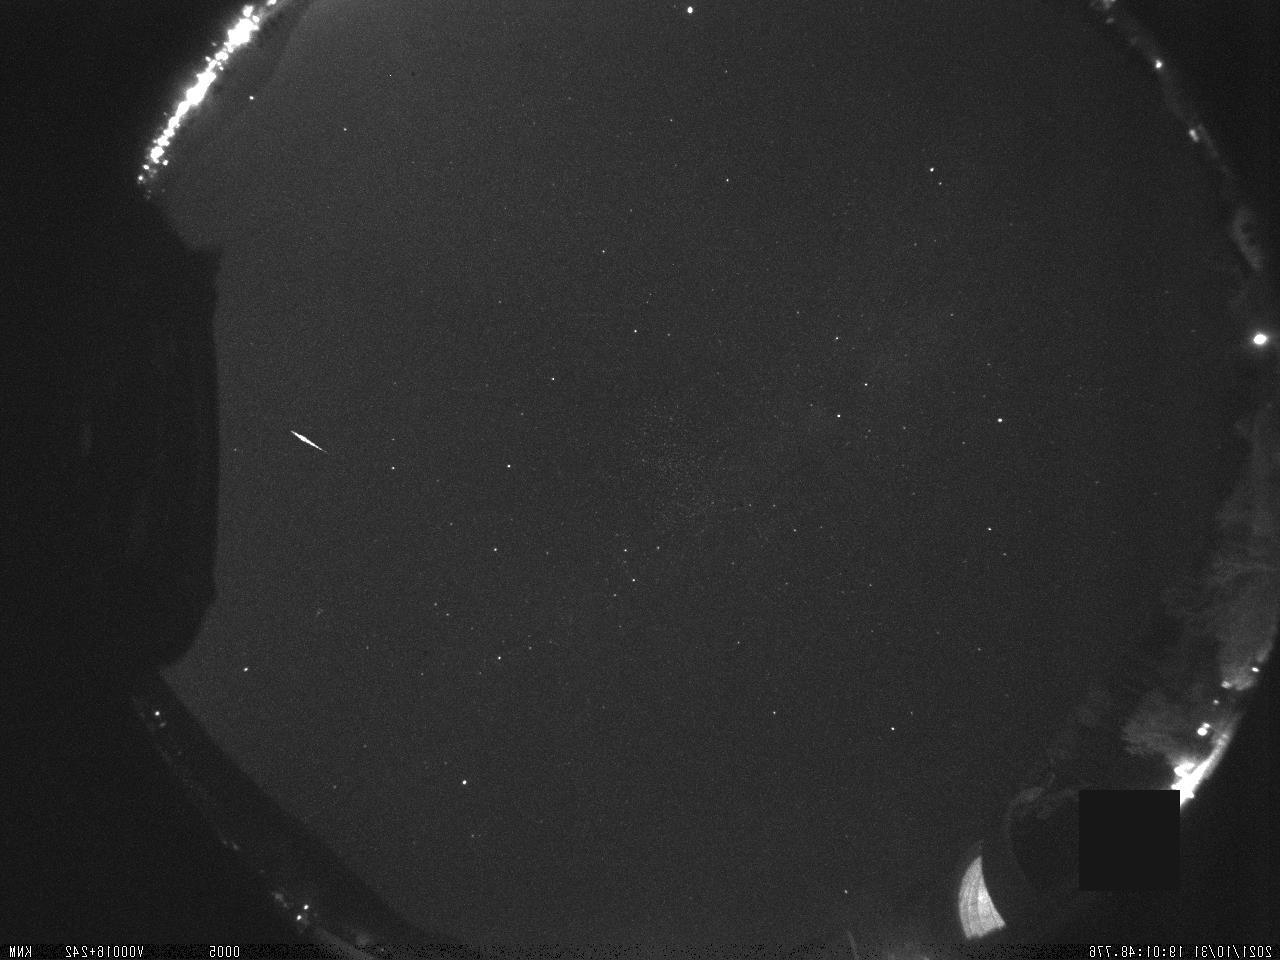meteor: (283, 424, 338, 460)
